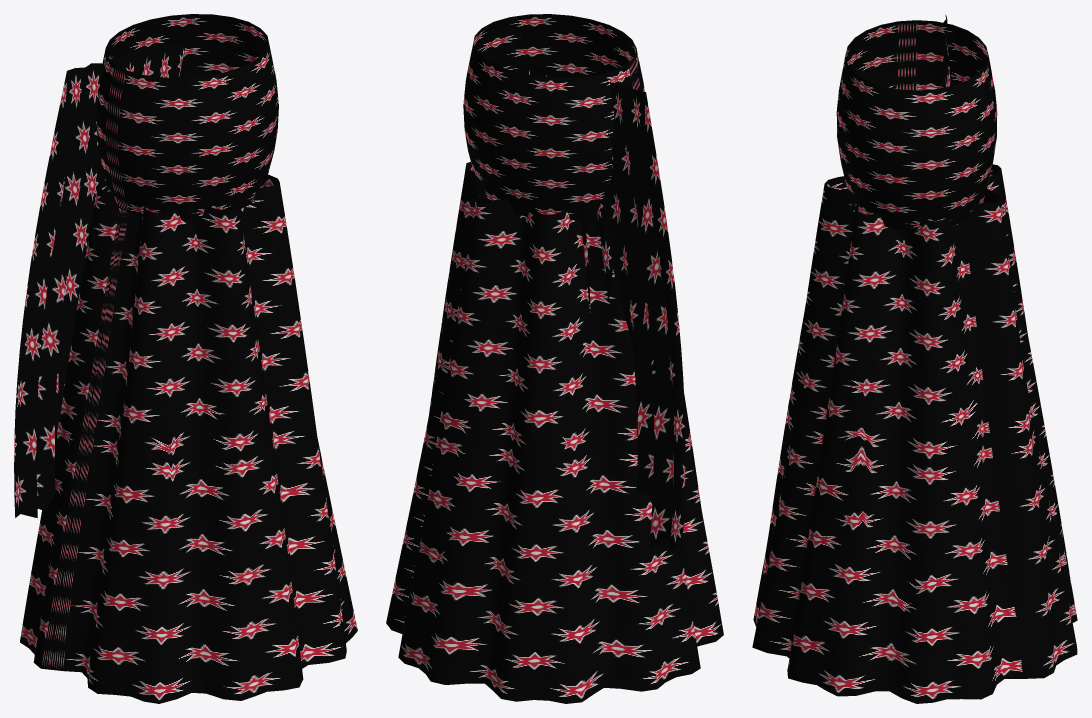
Rendered from saree_low.glb.
The picture shows the model from 3 angles, left to right: view 1: azimuth 30°, elevation 25°; view 2: azimuth 150°, elevation 25°; view 3: azimuth 270°, elevation 25°; orthographic projection.
Parts seen in each view (by area): view 1: SareeSkirt_low, Blouse_low, Pallu_low; view 2: SareeSkirt_low, Blouse_low, Pallu_low; view 3: SareeSkirt_low, Blouse_low.
Part boxes in pixels (box(x1,y1,x2,y2)): SareeSkirt_low: box(20, 174, 357, 703); Blouse_low: box(96, 14, 278, 220); Pallu_low: box(14, 42, 186, 518); SareeSkirt_low: box(386, 162, 723, 703); Blouse_low: box(463, 14, 644, 219); Pallu_low: box(526, 63, 685, 550); SareeSkirt_low: box(752, 164, 1077, 703); Blouse_low: box(836, 20, 997, 230).
Size of the model in its own units: 0.6471 by 1.22 by 0.6219.
Materials: 2 (2 with a texture image).
